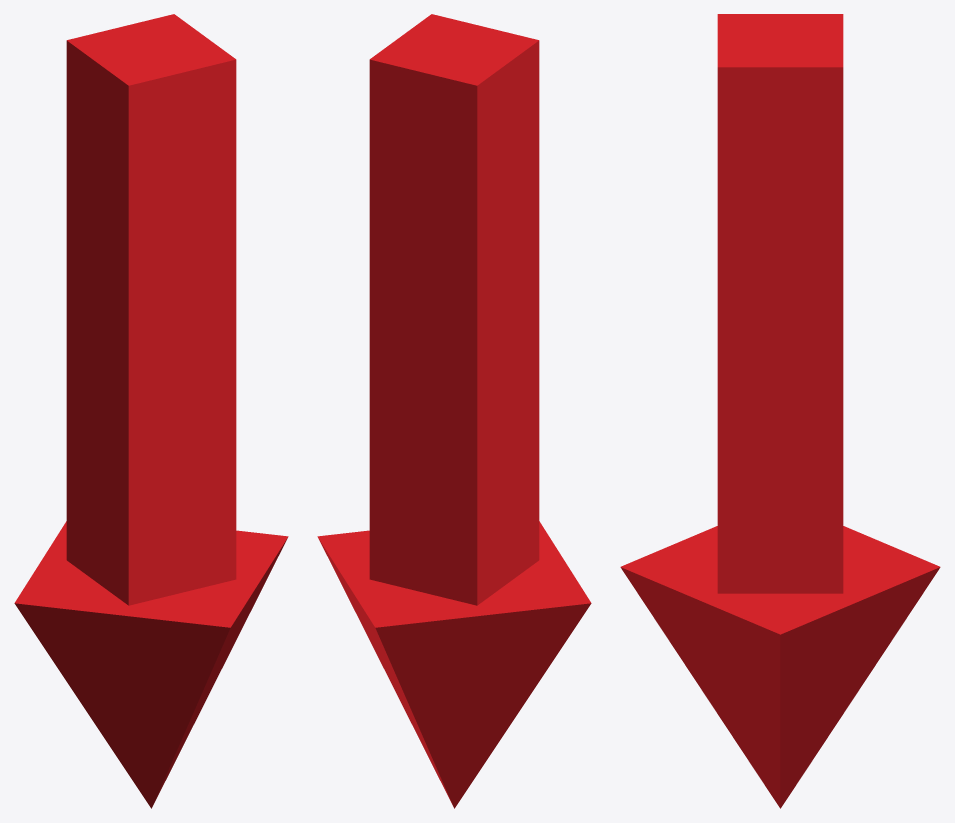
Rendered from RedArrow.obj.
The picture shows the model from 3 angles, left to right: view 1: azimuth 30°, elevation 25°; view 2: azimuth 150°, elevation 25°; view 3: azimuth 270°, elevation 25°; orthographic projection.
Parts seen in each view (by area): view 1: polySurface1; view 2: polySurface1; view 3: polySurface1.
Boxes of the visible parts, left/top/right/bottom form: polySurface1: left=14, top=14, right=288, bottom=808; polySurface1: left=317, top=14, right=591, bottom=808; polySurface1: left=620, top=14, right=940, bottom=808.
Size of the model in its own units: 1.8 by 4.76 by 1.8.
1 material, 1 textured.
